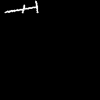double_crochet: (5, 1, 37, 12)
